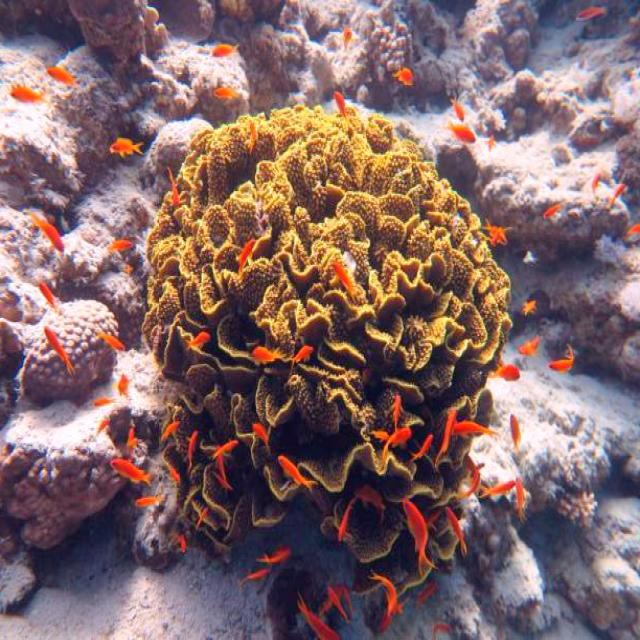Coral: (141, 100, 513, 596), (20, 299, 119, 408)
